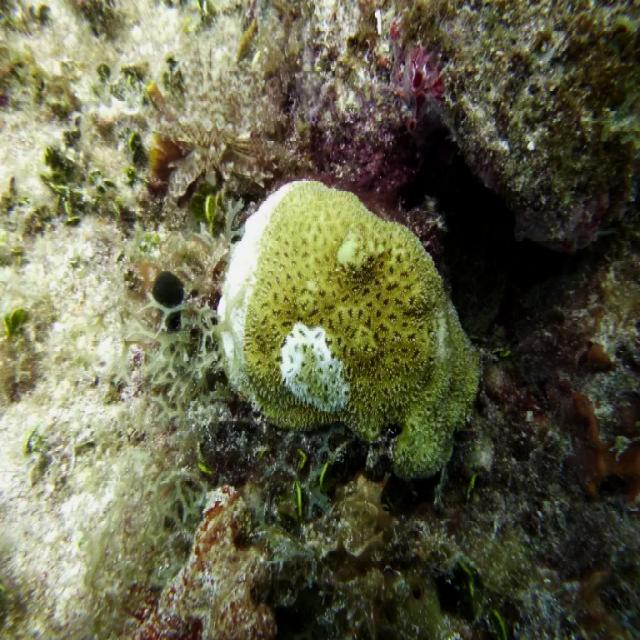Coral: (217, 177, 482, 479)
